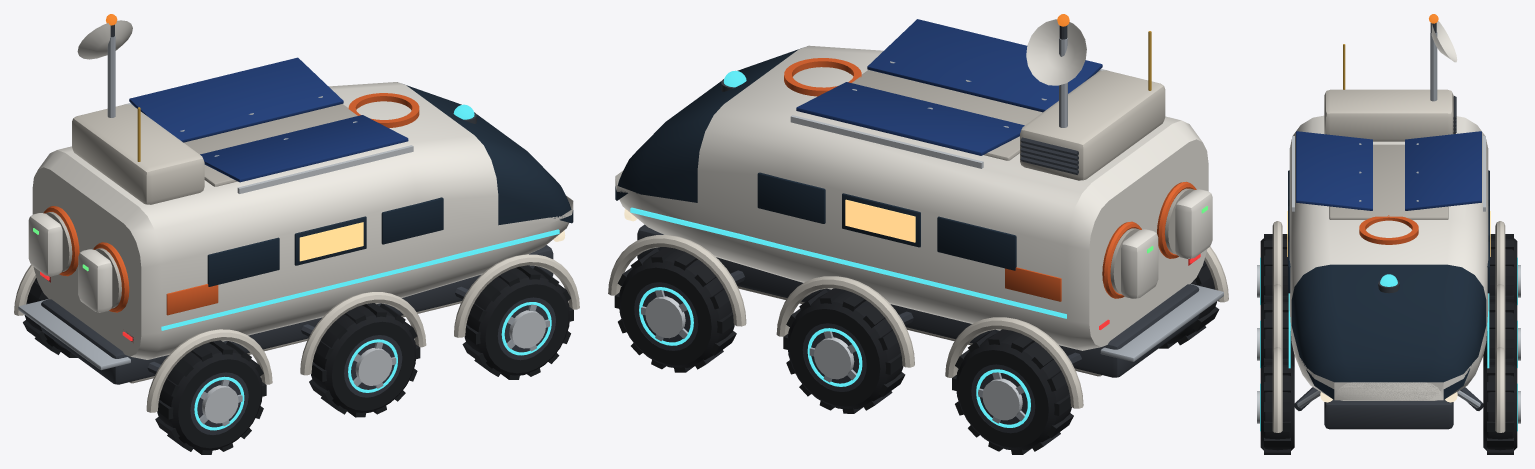
File: crew_rover.glb
3 views of the same model, side by side, from view 1: azimuth 30°, elevation 25°; view 2: azimuth 150°, elevation 25°; view 3: azimuth 270°, elevation 25° (orthographic). The views are drawn at different scales.
Parts seen in each view (by area): view 1: crew_rover; view 2: crew_rover; view 3: crew_rover.
Part boxes in pixels (left/top/right/bottom): crew_rover: left=14, top=14, right=579, bottom=454; crew_rover: left=608, top=14, right=1228, bottom=454; crew_rover: left=1257, top=14, right=1520, bottom=454.
Size of the model in its own units: 4.7 by 3.42 by 2.65.
